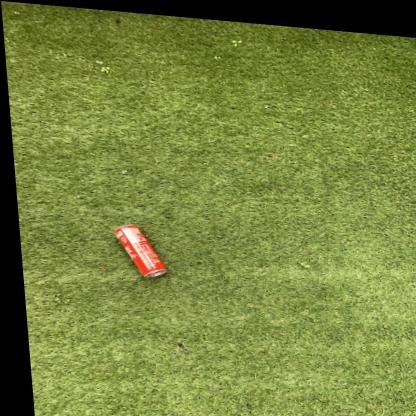trash: (114, 225, 167, 277)
